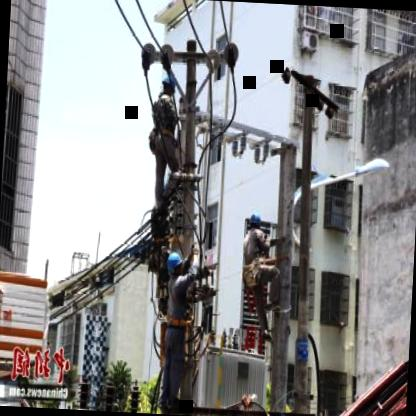helmet: (164, 249, 186, 281), (158, 68, 180, 99), (245, 208, 266, 238)
